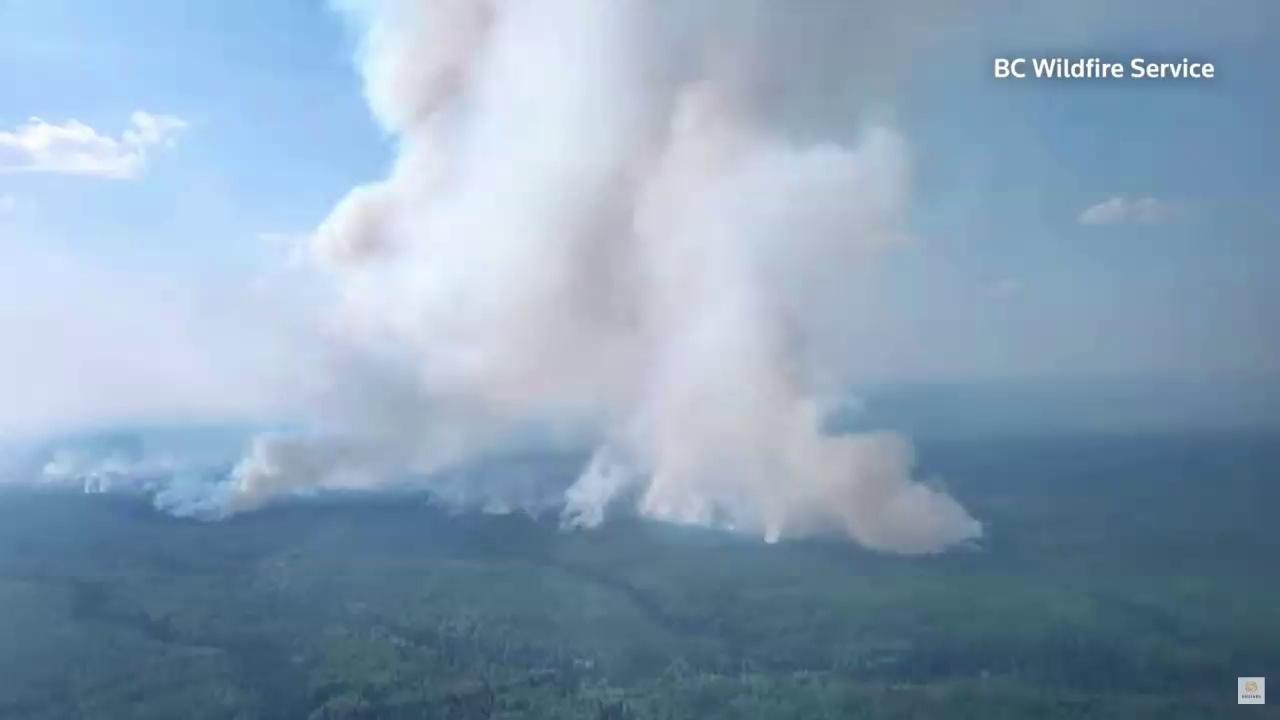smoke: (150, 0, 991, 558)
